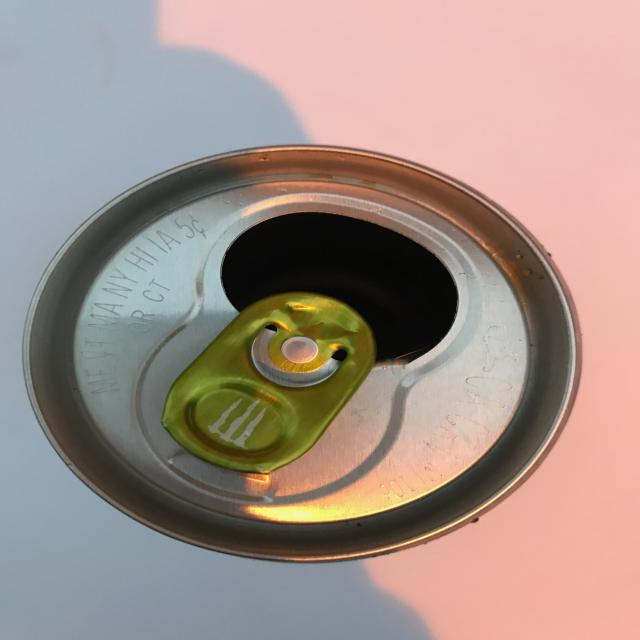metal: (19, 142, 585, 565)
